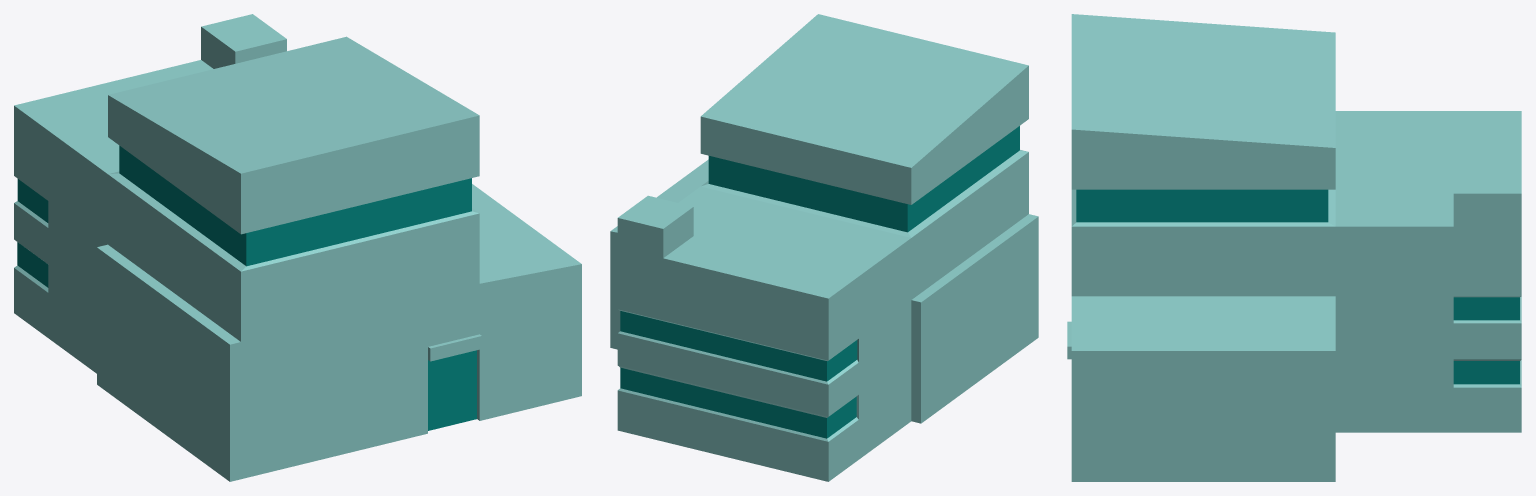
File: testencore.FBX
3 renders of one model, left to right at view 1: azimuth 30°, elevation 25°; view 2: azimuth 150°, elevation 25°; view 3: azimuth 270°, elevation 25°, orthographic. The views are drawn at different scales.
Parts seen in each view (by area): view 1: Box001; view 2: Box001; view 3: Box001.
Boxes of the visible parts, left/top/right/bottom form: Box001: left=14, top=14, right=581, bottom=481; Box001: left=610, top=14, right=1038, bottom=481; Box001: left=1067, top=14, right=1521, bottom=481.
Bounding box in the file's own units: 71.86 × 59.61 × 81.05.
